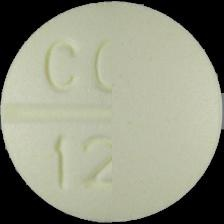21695-467: (0, 0, 224, 224)
